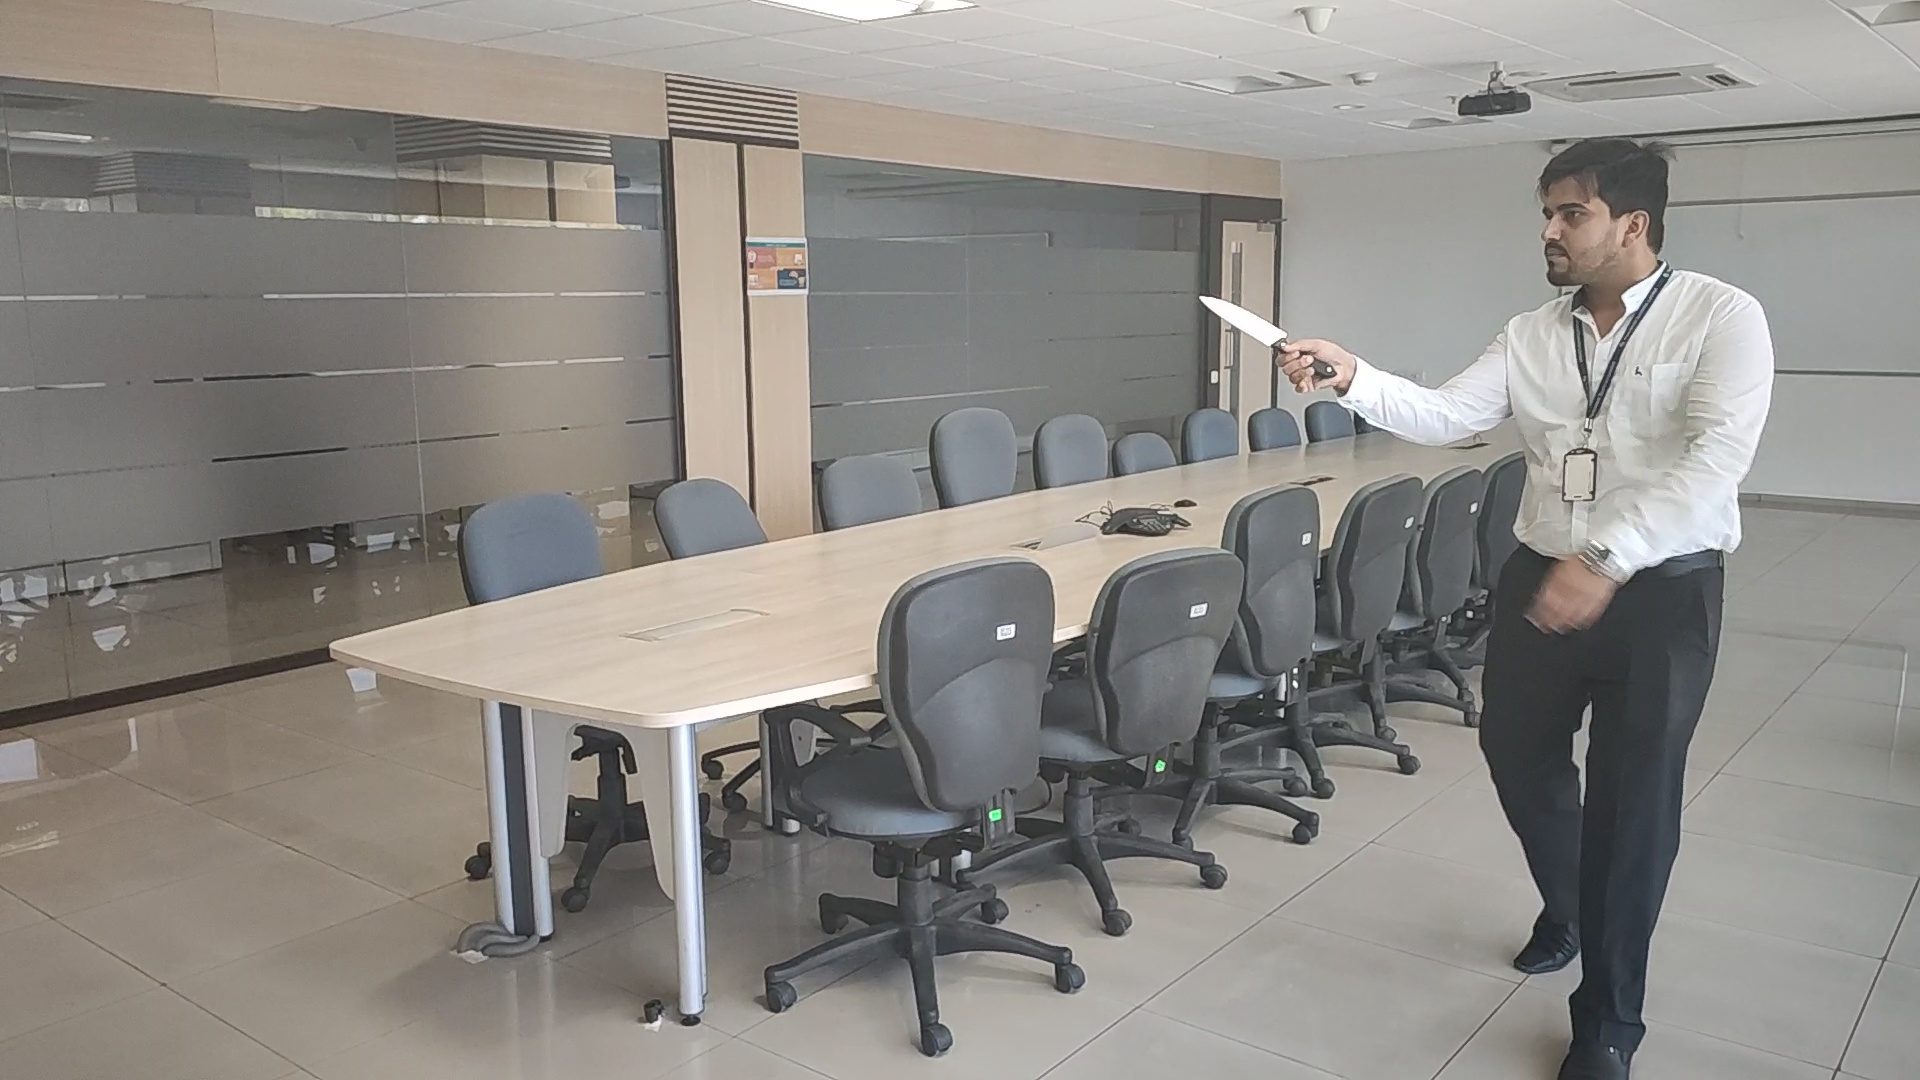knife: (1199, 290, 1337, 382)
